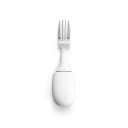fork: (46, 16, 86, 113)
